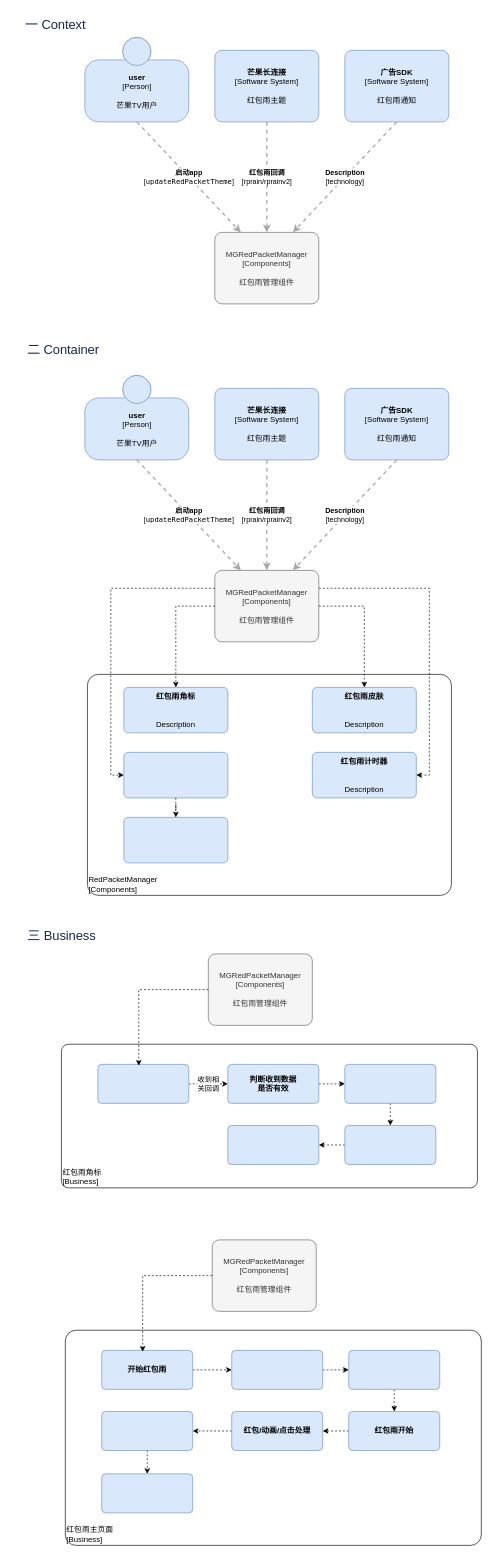
Image size: 493x1557. Some labels were removed from this diagram. Each missing label, with the centre of its shape:
"判断是否显示角标" goes at point (390, 1083).
"奖品领取 Description" goes at point (175, 840).
"注册长链接/广告回调" goes at point (143, 1083).
"确认显示皮肤" goes at point (277, 1369).
"红包雨主页面 Description" goes at point (175, 775).
"红包雨结束" goes at point (147, 1430).
"结果展示" goes at point (147, 1493).
"角标位置处理" goes at point (390, 1144).
"角标倒计时处理" goes at point (273, 1144).
"预警倒计时" goes at point (394, 1369).
